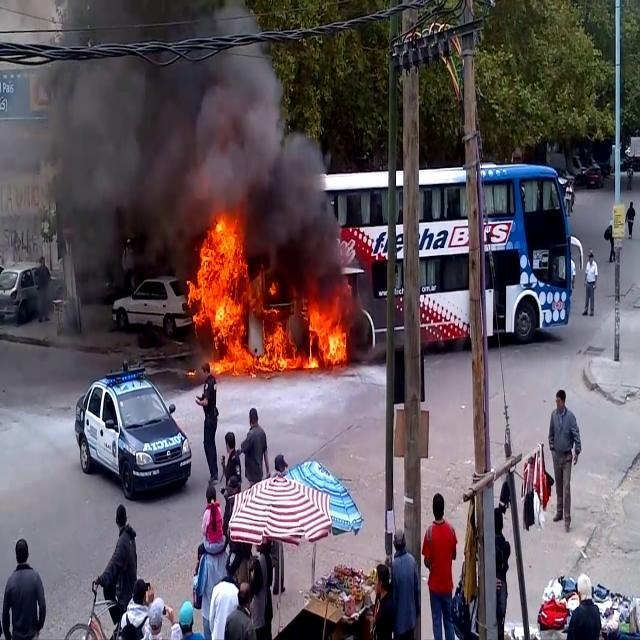Fire: (184, 214, 350, 378)
Smoke: (24, 0, 341, 260)
